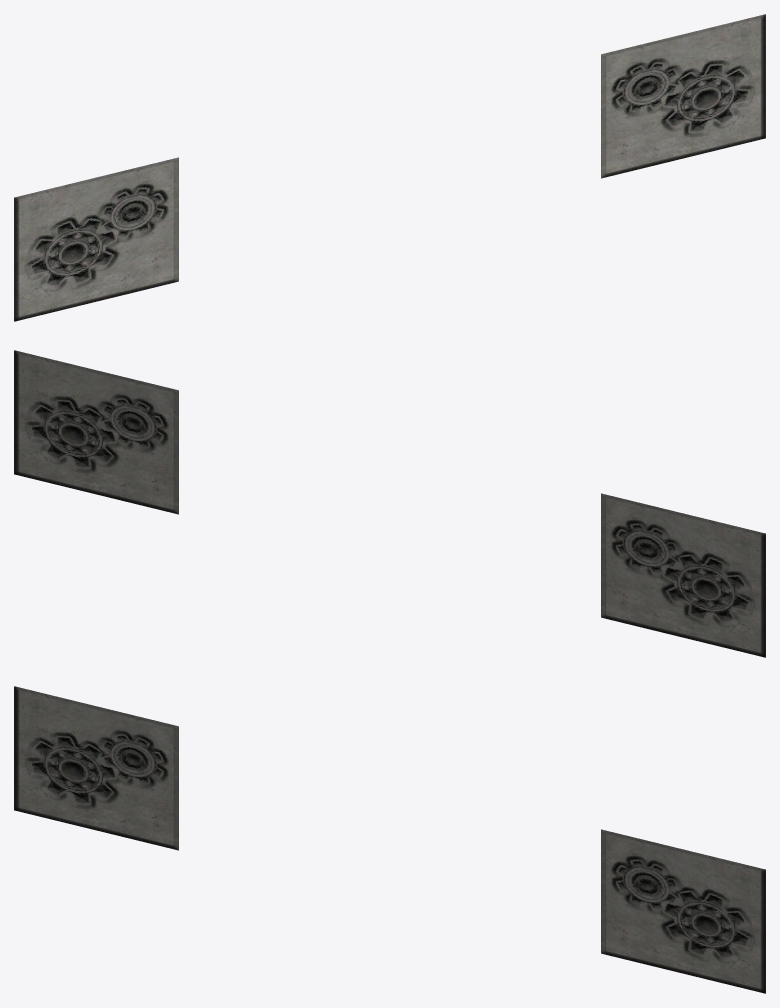
File: DWARF_PALACE_MAINHALL_ICON02.fbx
3 views of the same model, one above another, from view 1: azimuth 30°, elevation 25°; view 2: azimuth 150°, elevation 25°; view 3: azimuth 330°, elevation 25° (orthographic).
Visible parts, largest first — view 1: DWARF_PALACE_MAINHALL_ICON02; view 2: DWARF_PALACE_MAINHALL_ICON02; view 3: DWARF_PALACE_MAINHALL_ICON02.
Part boxes in pixels (<box>): DWARF_PALACE_MAINHALL_ICON02: <box>14,14,765,321</box>; DWARF_PALACE_MAINHALL_ICON02: <box>14,350,765,657</box>; DWARF_PALACE_MAINHALL_ICON02: <box>14,686,765,993</box>.
Size of the model in its own units: 114000 by 18000 by 0.2959.
Materials: 1 (1 with a texture image).
